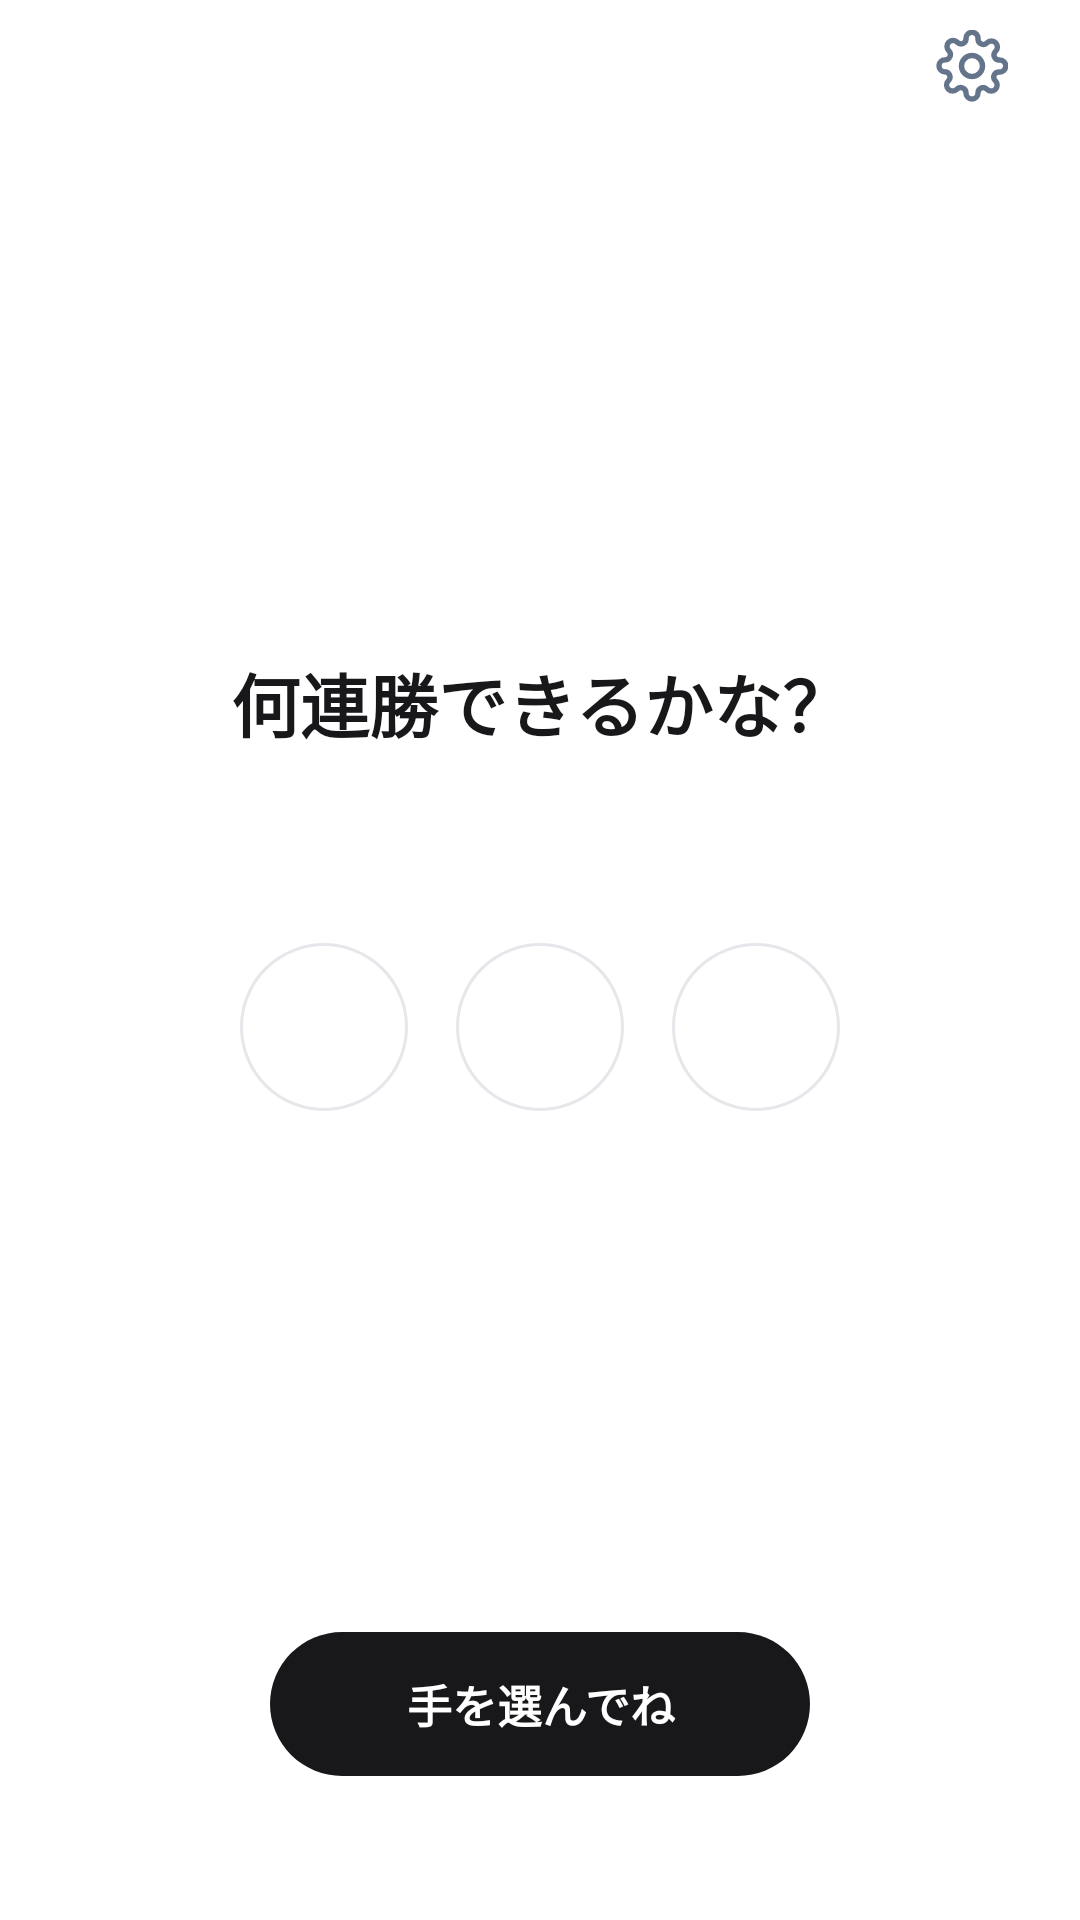

Point at icon controls on the screen. Image size 1080 x 1920, points as point (x, y).
設定を開く: point (972, 66)
